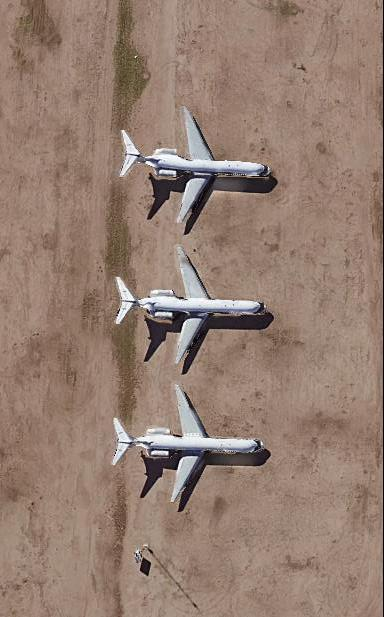plane: (112, 105, 279, 228), (109, 378, 268, 506), (110, 252, 273, 366)
